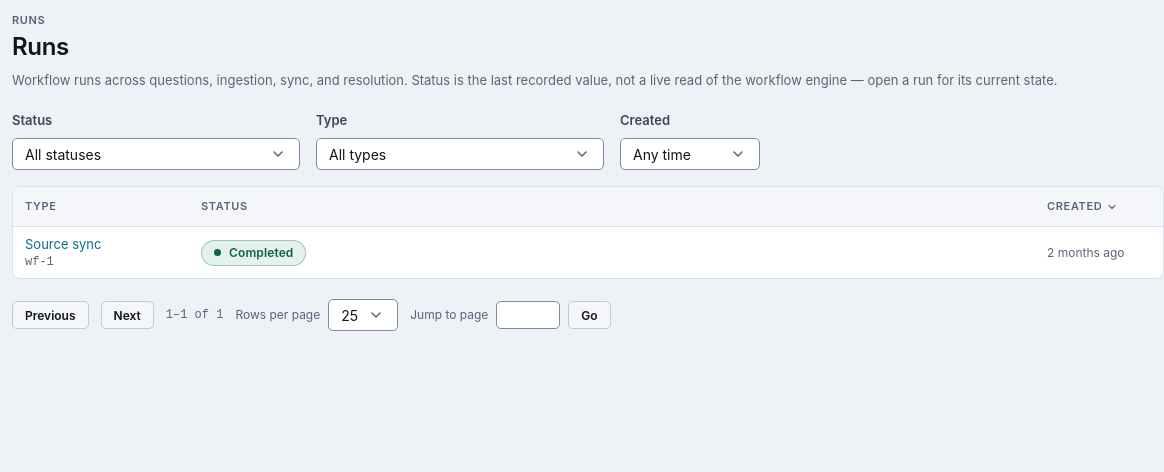
it: RunsPage › treats revealing an empty Custom range as no filter: no refetch and no Clear filters
Expected: the link "Source sync" is shown, left=25, top=236, right=102, bottom=252
Select "Custom range" in the dropdown labelled "Created" at (690, 154), box left=620, top=138, right=760, bottom=170
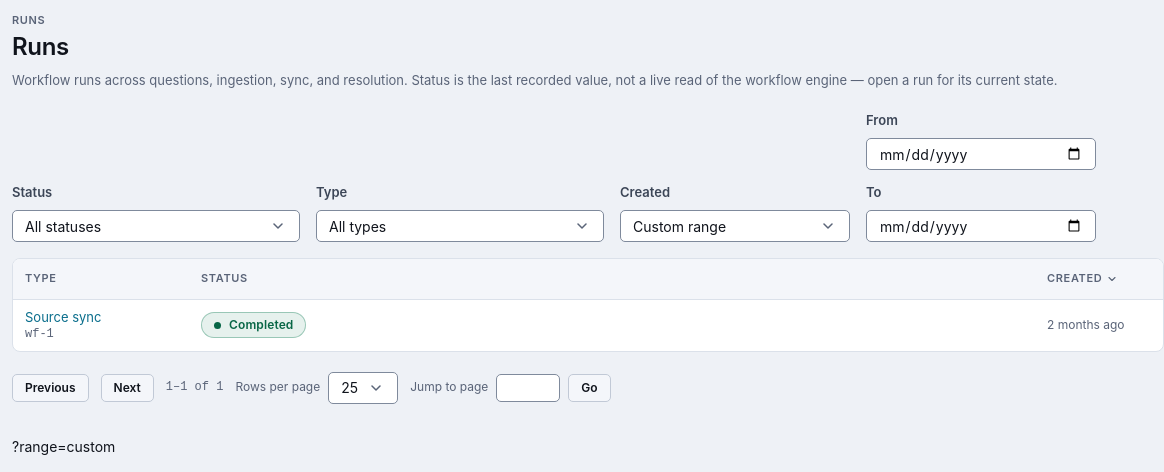
Expected: the date field labelled "From" is empty, left=866, top=138, right=1096, bottom=170
Expected: the text named "current search" reads "?range=custom", left=12, top=438, right=115, bottom=454
